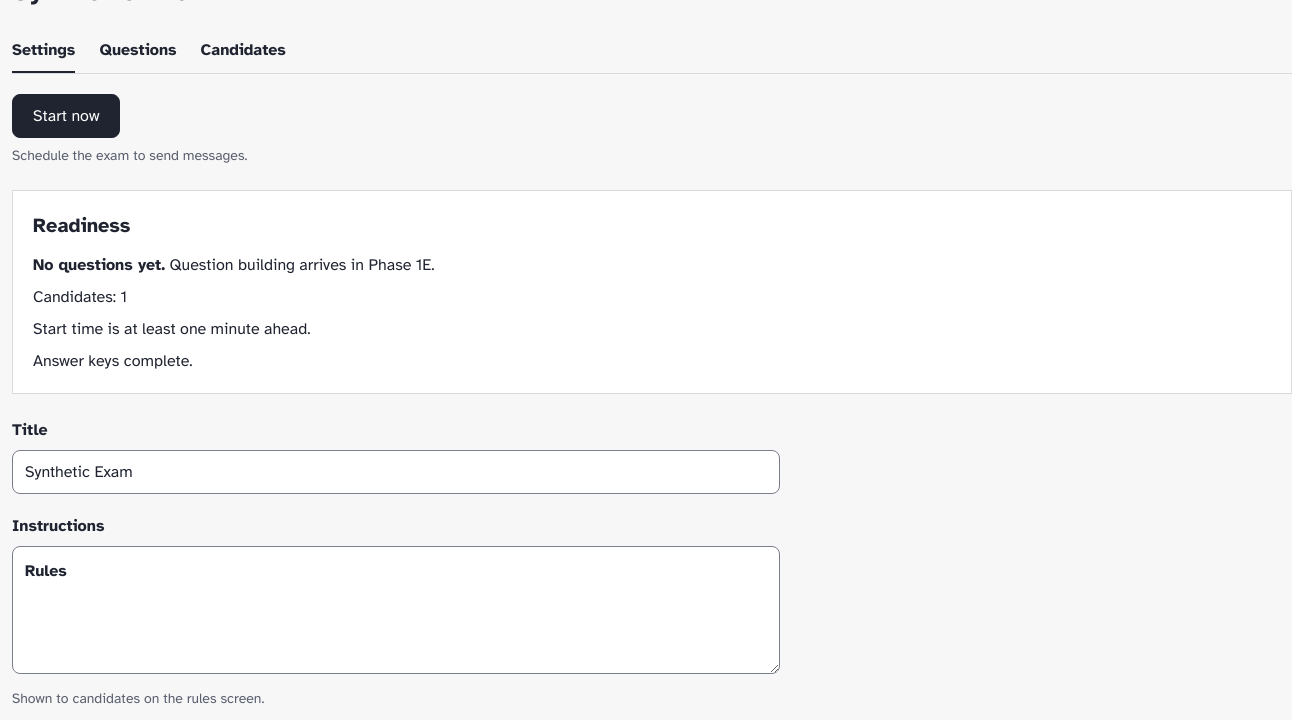
Scenario: ExamForm › shows save request failures as persistent toasts
Expected: the text "No questions yet." is shown, 33,255 -> 165,275
Replace the text in the field labelled "Title" with "Updated" at (396, 472), box 12,450 -> 780,494
(page scrolled)
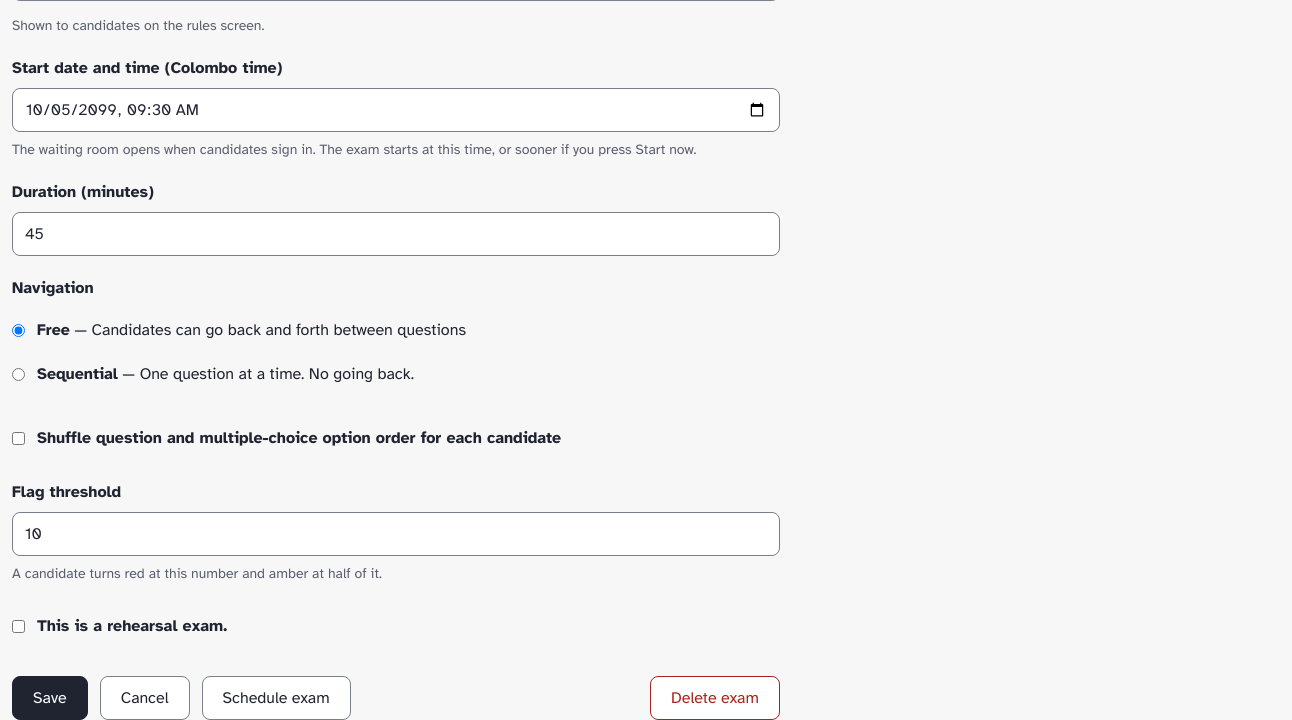
Click the button "Save".
click(50, 698)  # box 12,676 -> 88,719
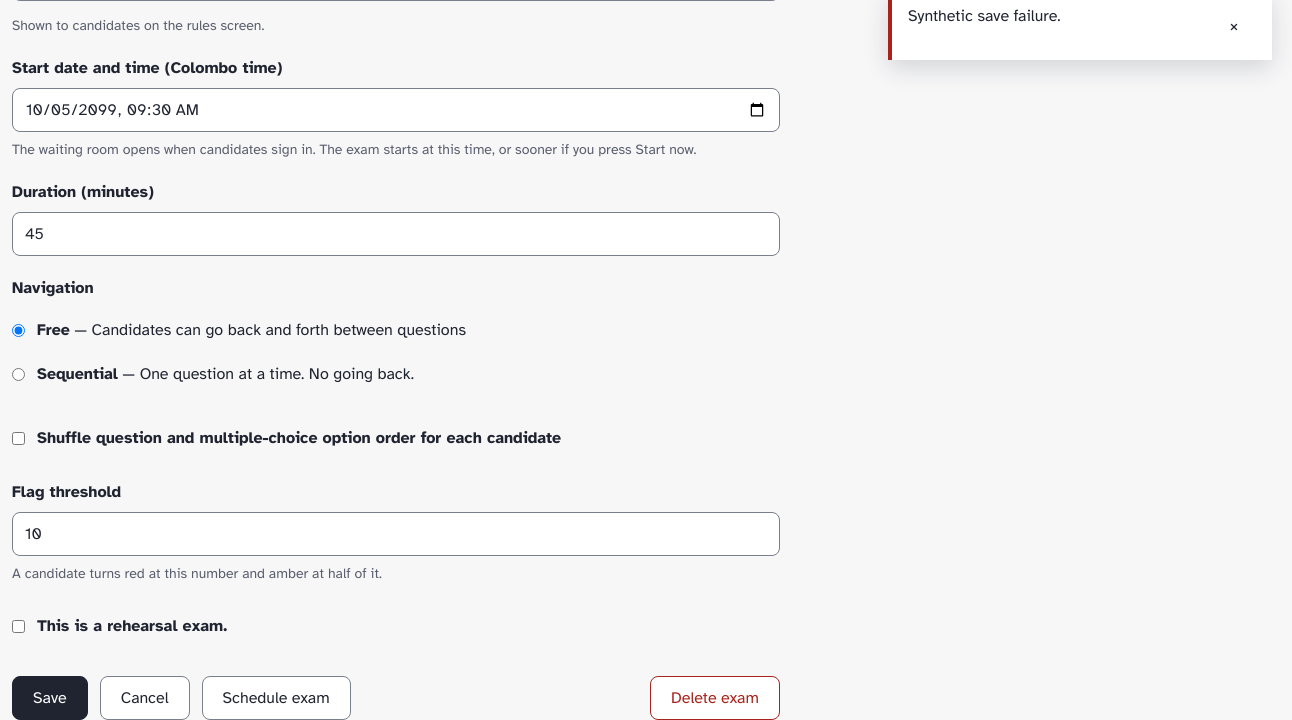
Now the text "Synthetic save failure." is shown, box 908,4 -> 1061,28
